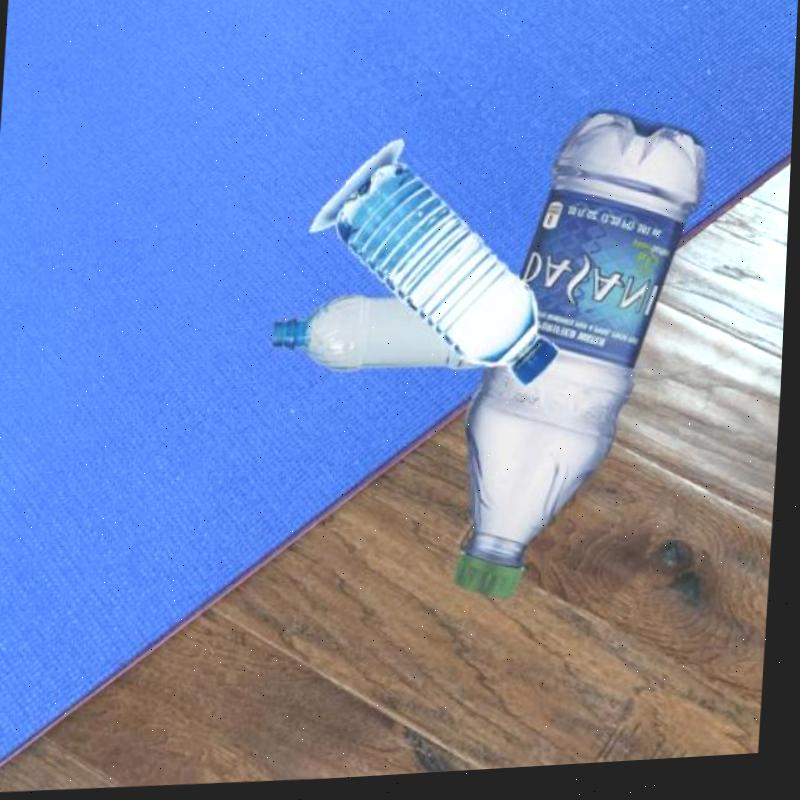botella: (457, 108, 707, 608), (325, 154, 569, 405), (268, 288, 508, 383)
